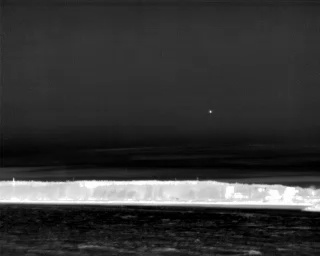HELICOPTER: (206, 107, 214, 117)
